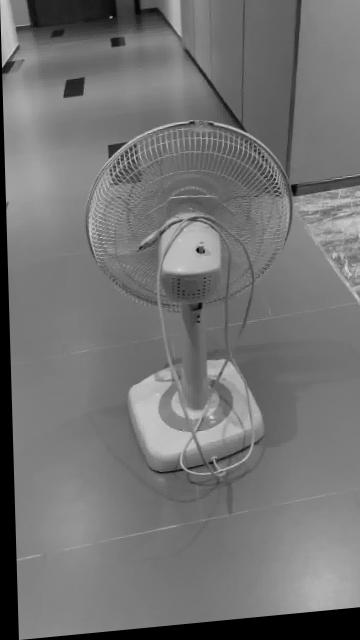Fan: (84, 124, 291, 478)
